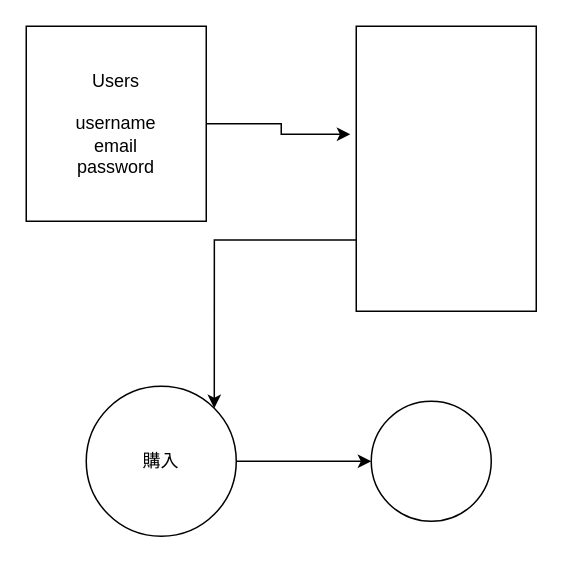
Image size: 563x563. Some labels were removed from this diagram. The shapes that lost their labels are listed below. From the top down, each one's centre as x and y in pixels, then its label:
At (x=445, y=168): "items 商品名 カテゴリー 値段 出品者".
At (x=430, y=460): "配送先住所".
